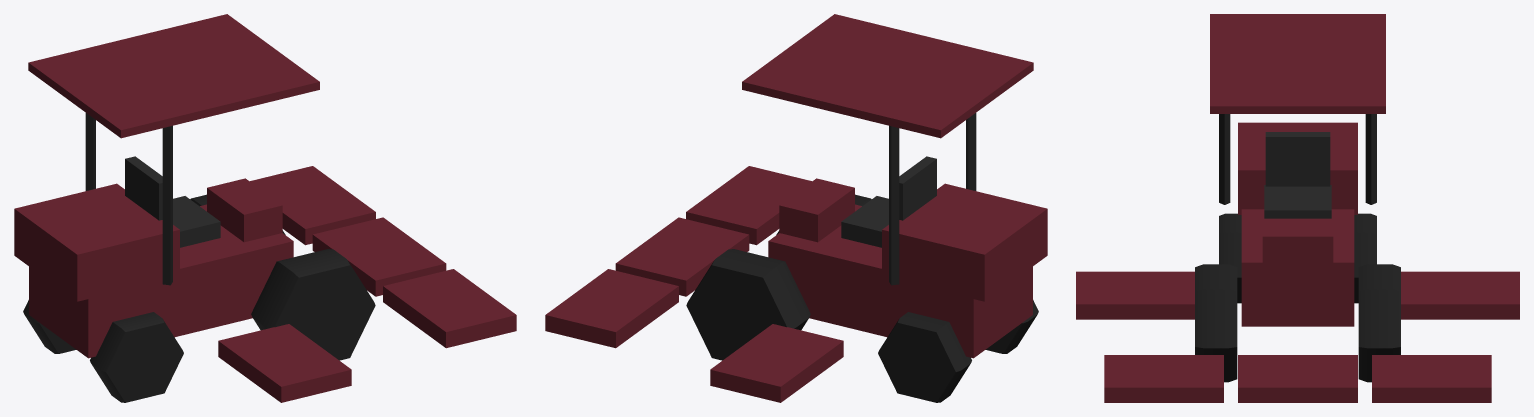
File: SM_Prop_farm_mower_1_LOD2.glb
3 renders of one model, left to right at view 1: azimuth 30°, elevation 25°; view 2: azimuth 150°, elevation 25°; view 3: azimuth 270°, elevation 25°, orthographic. The views are drawn at different scales.
Parts seen in each view (by area): view 1: SM_Prop_farm_mower_1_LOD2; view 2: SM_Prop_farm_mower_1_LOD2; view 3: SM_Prop_farm_mower_1_LOD2.
Boxes of the visible parts, box(x1,y1,x2,y2) form: SM_Prop_farm_mower_1_LOD2: box(14, 14, 516, 402); SM_Prop_farm_mower_1_LOD2: box(545, 14, 1047, 402); SM_Prop_farm_mower_1_LOD2: box(1076, 14, 1519, 402).
Bounding box in the file's own units: 2.87 × 2.09 × 3.15.
